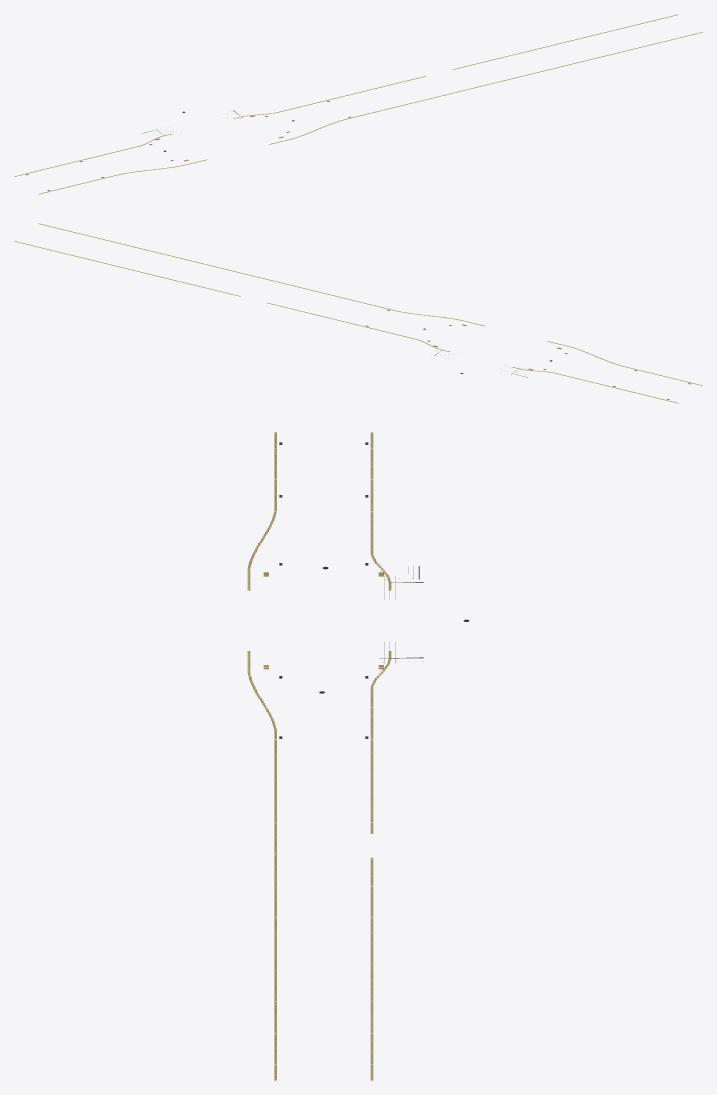
The model's file is ART_PavingDetails.lod.glb.
The picture shows the model from 3 angles, top to bottom: view 1: azimuth 30°, elevation 25°; view 2: azimuth 150°, elevation 25°; view 3: azimuth 270°, elevation 25°; orthographic projection. The views are drawn at different scales.
Visible parts, largest first — view 1: ART_PavingDetails; view 2: ART_PavingDetails; view 3: ART_PavingDetails.
Part boxes in pixels (left/top/right/bottom): ART_PavingDetails: left=14, top=14, right=702, bottom=194; ART_PavingDetails: left=14, top=223, right=702, bottom=403; ART_PavingDetails: left=247, top=432, right=469, bottom=1080.
Size of the model in its own units: 172 by 0.159 by 24.87.
